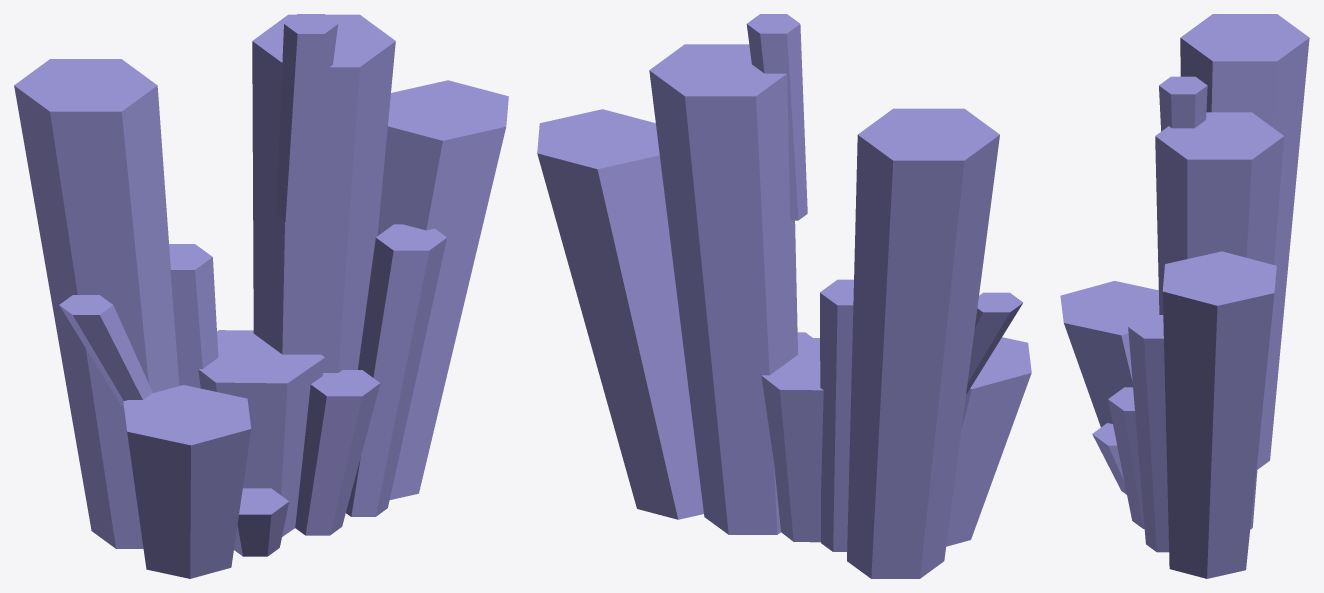
Rendered from cubeenv.fbx.
The picture shows the model from 3 angles, left to right: view 1: azimuth 30°, elevation 25°; view 2: azimuth 150°, elevation 25°; view 3: azimuth 270°, elevation 25°; orthographic projection. The views are drawn at different scales.
Visible parts, largest first — view 1: env; view 2: env; view 3: env.
Part boxes in pixels (x1,y1,x2,y2): env: (14,14,508,578); env: (537,14,1031,578); env: (1060,14,1309,578).
Size of the model in its own units: 41.03 by 41.47 by 21.31.
